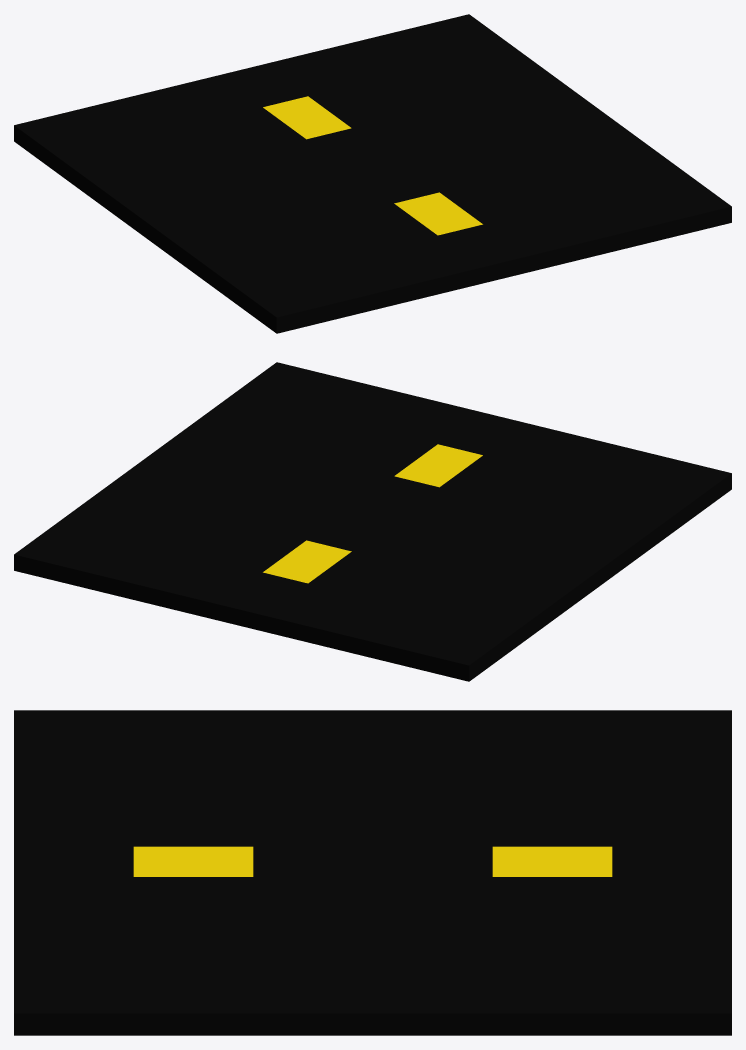
Rendered from Road-Straight.fbx.
3 renders of one model, top to bottom at view 1: azimuth 30°, elevation 25°; view 2: azimuth 150°, elevation 25°; view 3: azimuth 270°, elevation 25°, orthographic. The views are drawn at different scales.
Visible parts, largest first — view 1: Cube; view 2: Cube; view 3: Cube.
Boxes of the visible parts, box(x1,y1,x2,y2) form: Cube: box(14, 14, 731, 333); Cube: box(14, 362, 731, 681); Cube: box(14, 710, 731, 1035).
Size of the model in its own units: 200 by 6.81 by 200.
